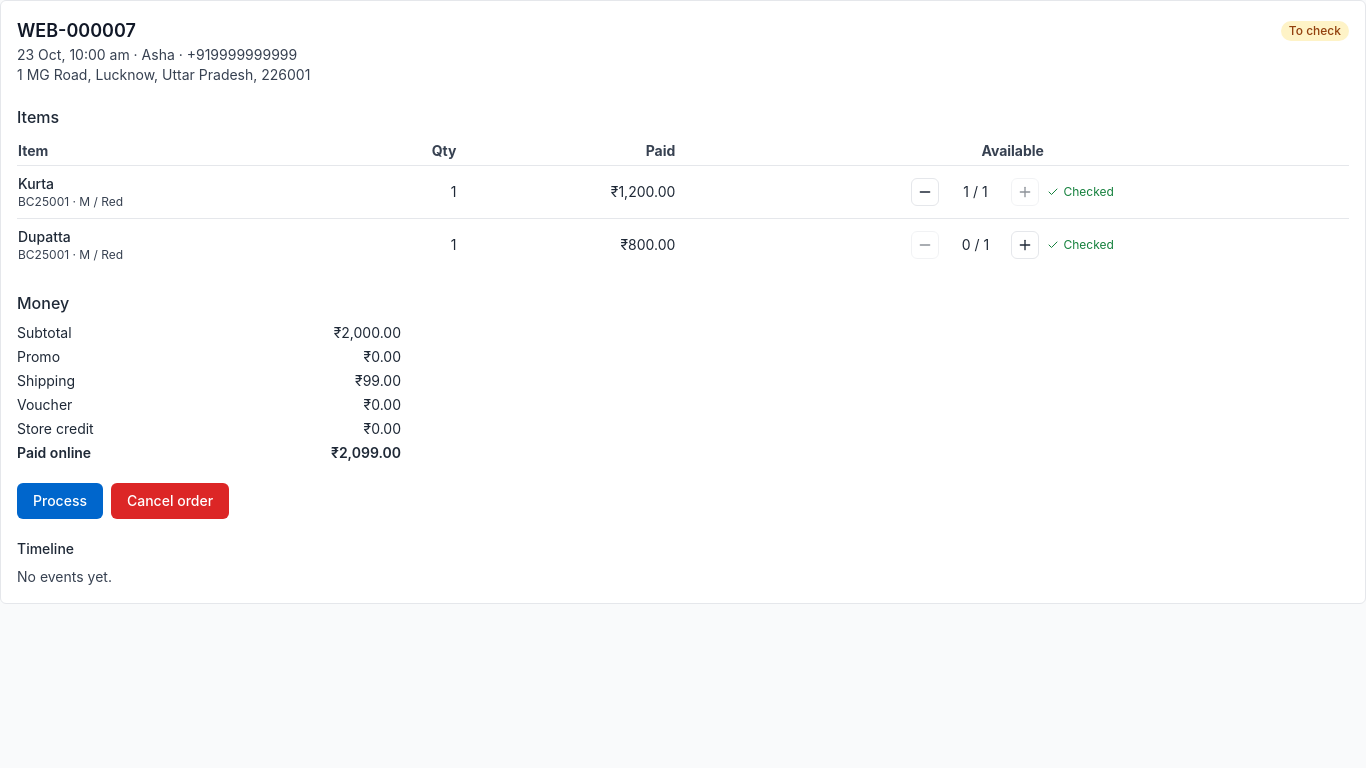
Test: Porter (manual) › closing the dialog resets the choice to Shiprocket
The image size is (1366, 768).
Check: the text "Kurta" is shown, box [18,175,54,192]
Click the button "Process" at (60, 501), box [17,483,103,519]
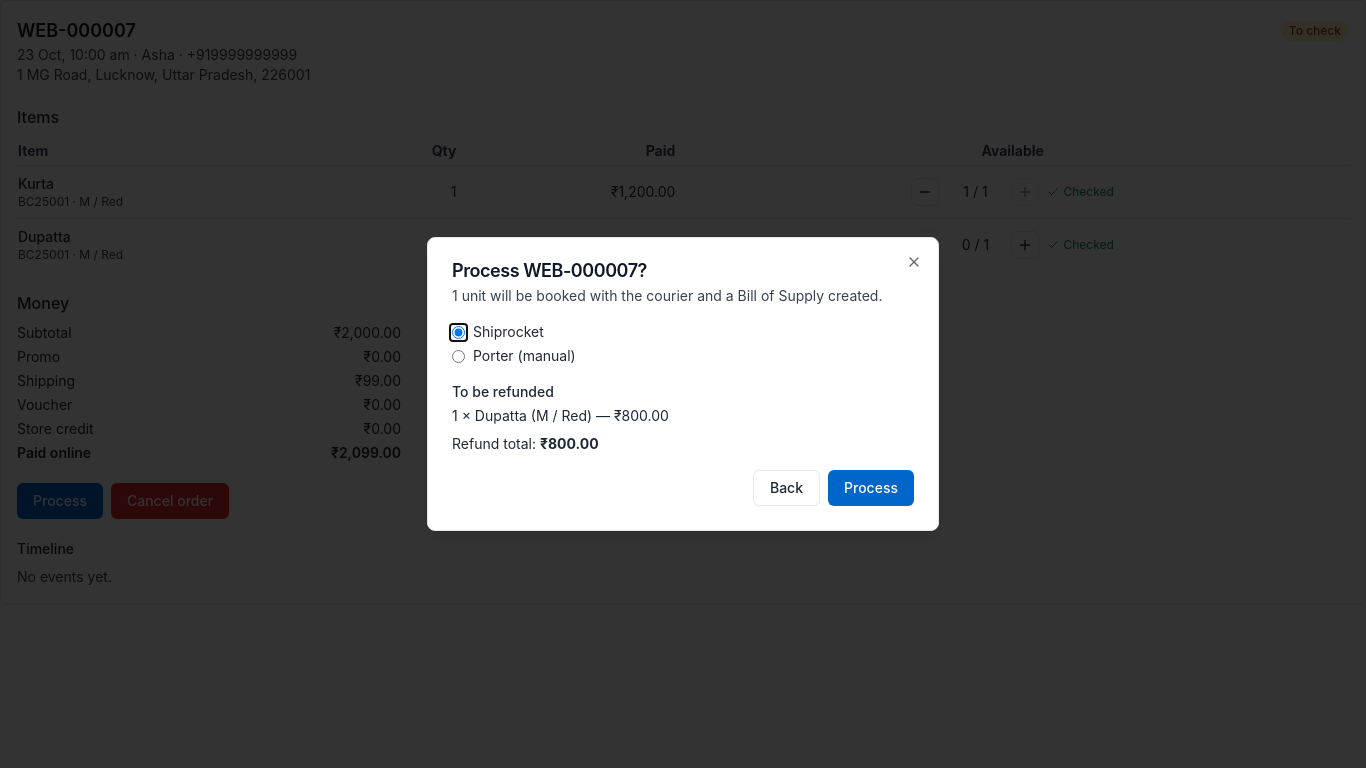
Click the radio button labelled "Porter (manual)" at (458, 356), box [452,350,465,362]
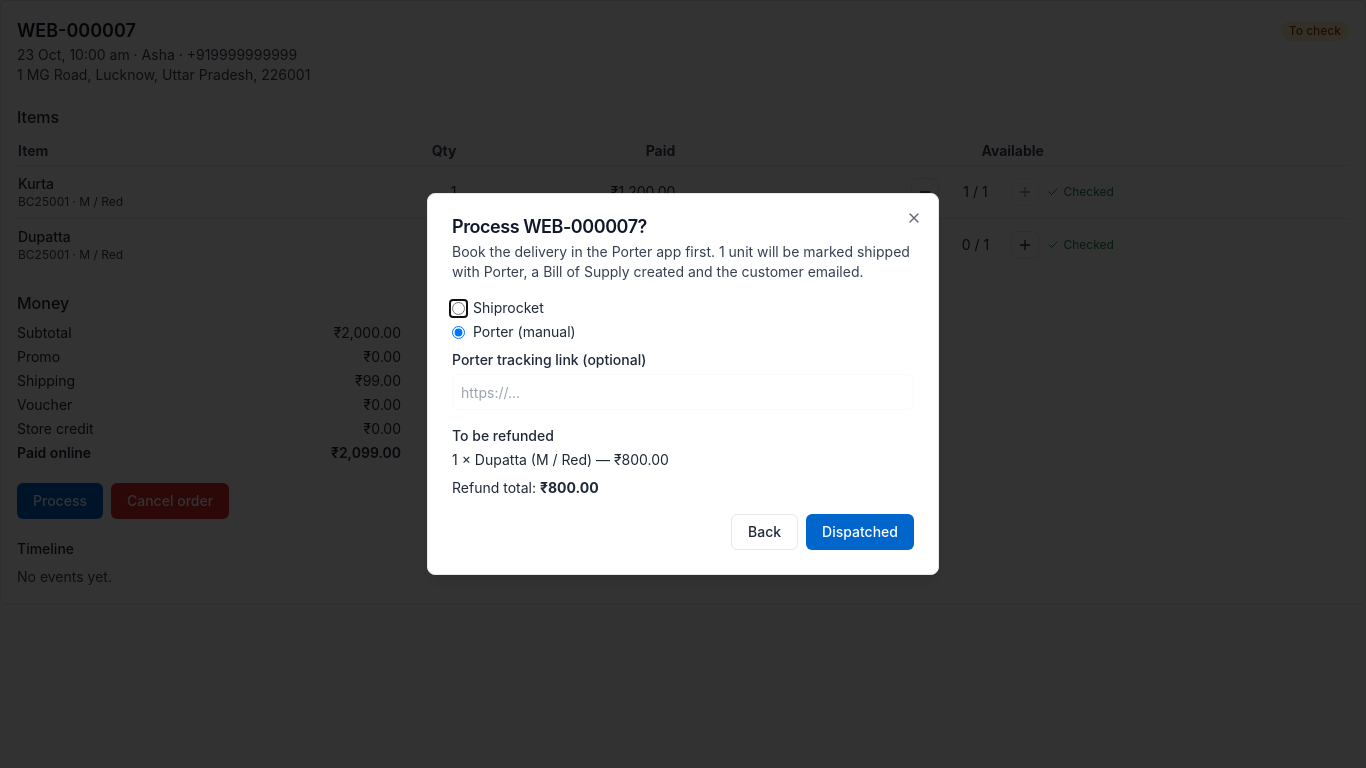
Click the button "Back" at (765, 532), box [731,514,798,550]
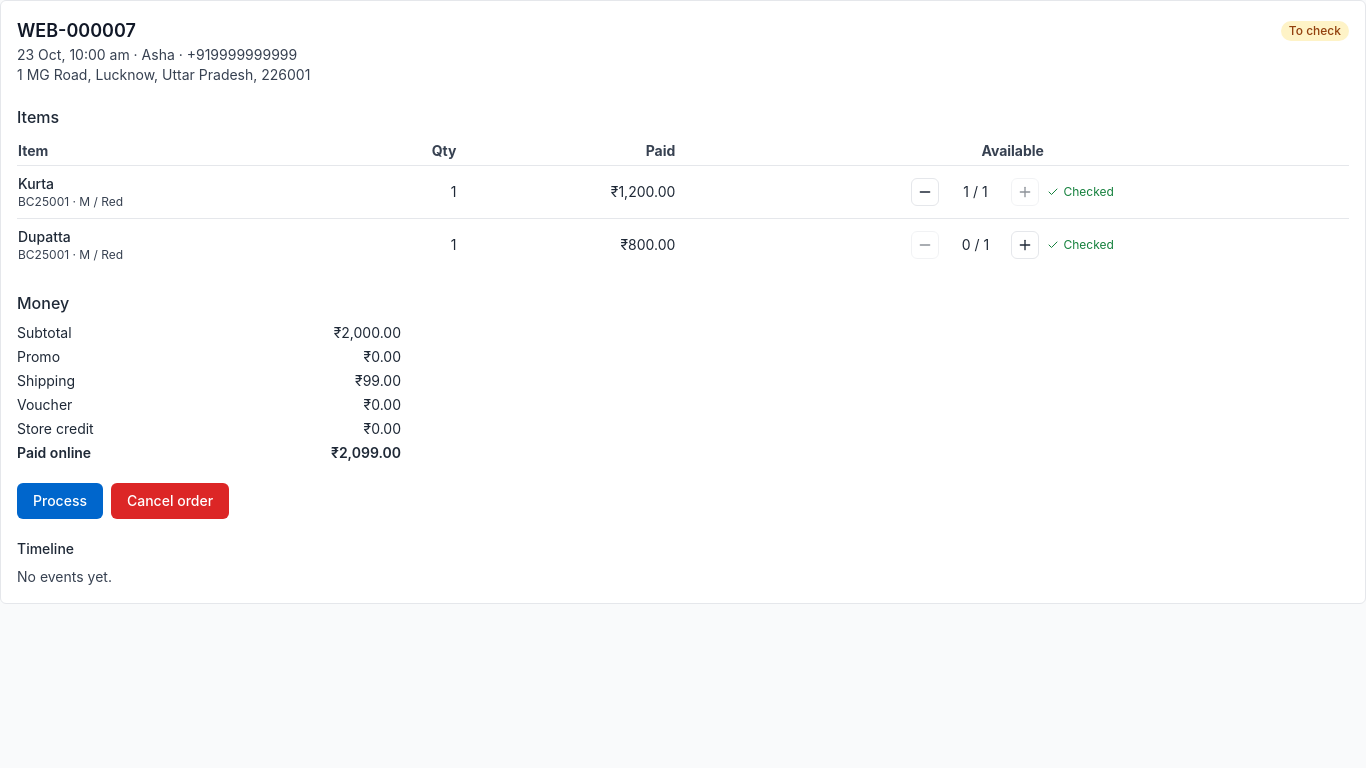
Check: the dialog is gone
Click the button "Process" at (60, 501), box [17,483,103,519]
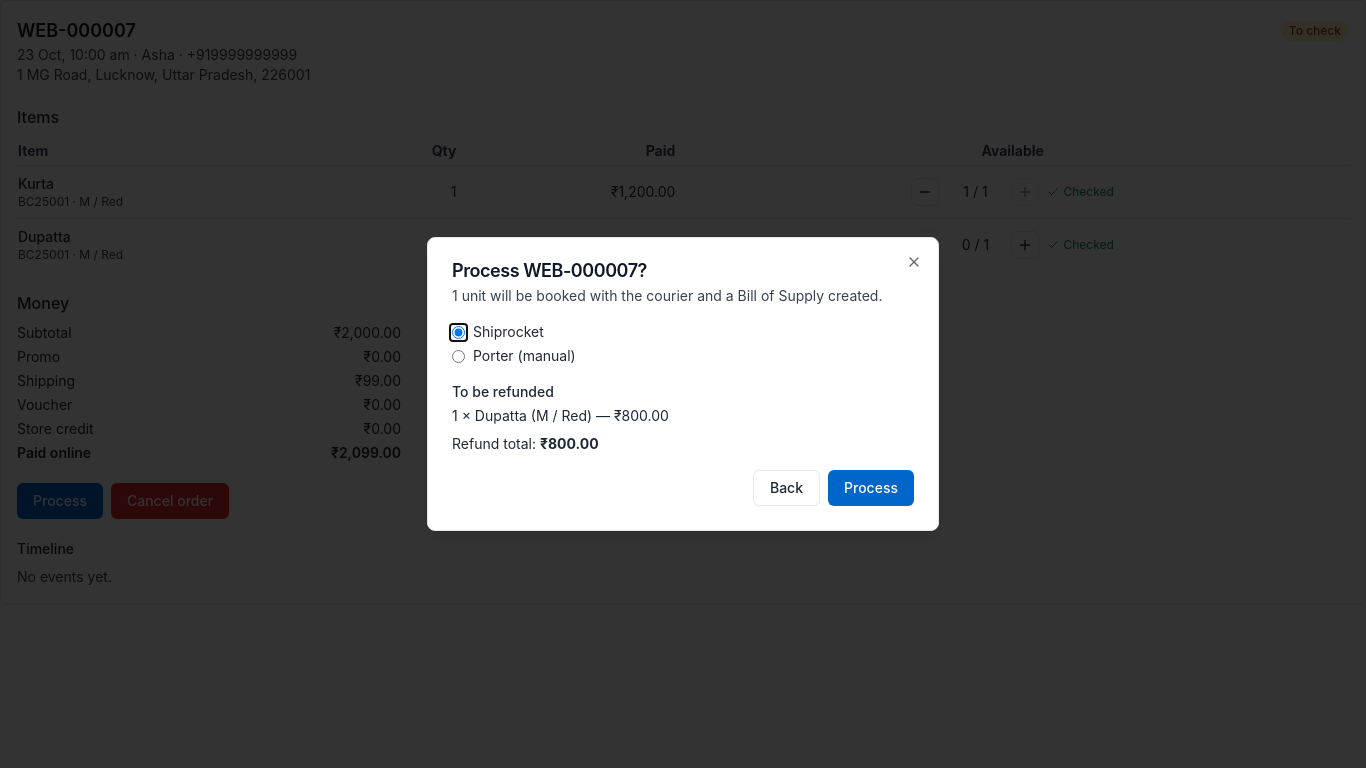
Check: the radio button labelled "Shiprocket" is checked, box [452,326,465,338]
